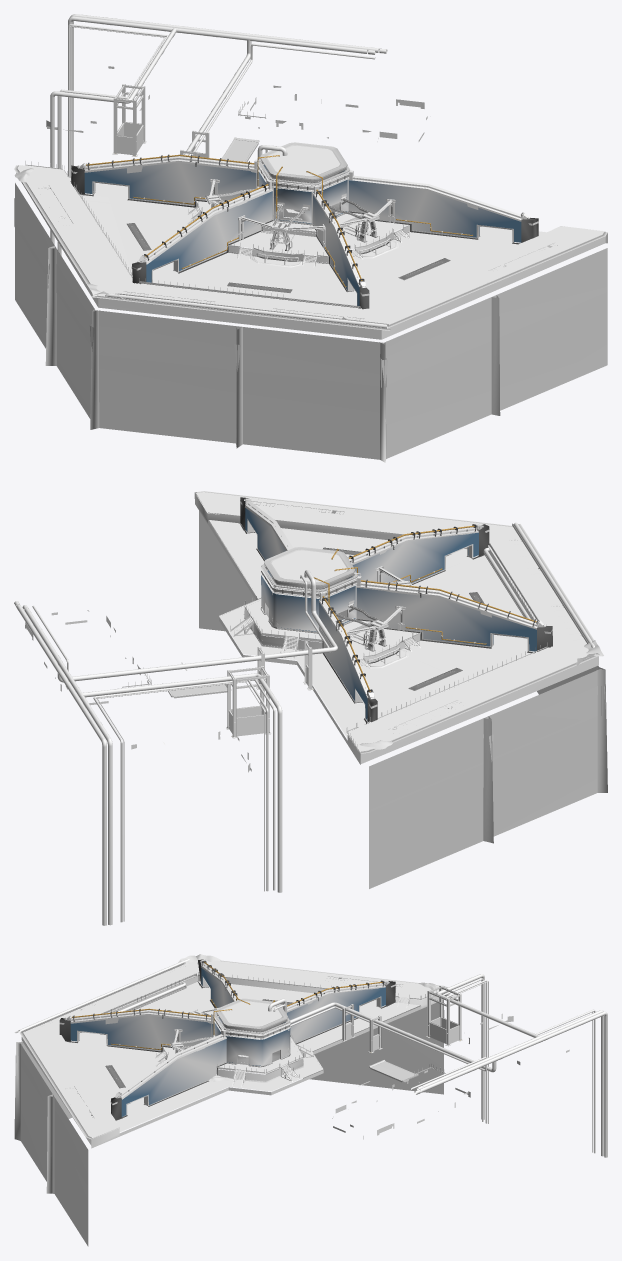
The model's file is cell_85_53.fbx.
3 renders of one model, top to bottom at view 1: azimuth 30°, elevation 25°; view 2: azimuth 150°, elevation 25°; view 3: azimuth 270°, elevation 25°, orthographic. The views are drawn at different scales.
Parts seen in each view (by area): view 1: SM_H_Building_FutureTech_Test_01_ExterWall_01.mo, SM_I_RoadFacility_Ground_R_02Ed.mo, SM_I_RoadFacility_Ground_R_02Ed_Decal.mo, SM_H_Building_FutureTech_Test_01_ExterWall_07.mo, SM_I_RoadFacility_Pipe_T_03A.mo, SM_H_Building_FutureTech_Test_01_ExterWall_01_Decal.mo, SM_I_RoadFacility_Pipe_T_06A.mo, SM_I_RoadFacility_Pipe_T_05.mo, SM_H_WalkwaySystem_MetalSupport_01.mo.001, SM_H_Building_FutureTech_Test_01_ExterWall_02.mo.001, SM_H_Building_FutureTech_Test_01_ExterWall_02.mo.002, SM_I_RoadFacility_Pipe_T_03A_Decal.mo (+4 smaller); view 2: SM_H_Building_FutureTech_Test_01_ExterWall_01.mo, SM_I_RoadFacility_Ground_R_02Ed.mo, SM_I_RoadFacility_Pipe_T_03A.mo, SM_I_RoadFacility_Ground_R_02Ed_Decal.mo, SM_H_Building_FutureTech_Test_01_ExterWall_07.mo, SM_I_RoadFacility_Pipe_T_06A.mo, SM_H_Building_FutureTech_Test_01_ExterWall_01_Decal.mo, SM_H_WalkwaySystem_MetalSupport_01.mo.001, SM_I_RoadFacility_Pipe_T_05.mo, SM_H_Building_FutureTech_Test_01_ExterWall_02.mo, SM_I_RoadFacility_Pipe_T_03A_Decal.mo, SM_H_Building_FutureTech_Test_01_ExterWall_03.mo; view 3: SM_H_Building_FutureTech_Test_01_ExterWall_01.mo, SM_I_RoadFacility_Ground_R_02Ed.mo, SM_I_RoadFacility_Pipe_T_03A.mo, SM_H_Building_FutureTech_Test_01_ExterWall_07.mo, SM_I_RoadFacility_Pipe_T_06A.mo, SM_H_Building_FutureTech_Test_01_ExterWall_01_Decal.mo, SM_I_RoadFacility_Ground_R_02Ed_Decal.mo, SM_I_RoadFacility_Pipe_T_05.mo, SM_H_WalkwaySystem_MetalSupport_01.mo.001, SM_I_RoadFacility_Pipe_T_03A_Decal.mo, SM_RoadFacility_Road_AsphaltRoad_512_01.mo.025, SM_I_RoadFacility_Ground_T_05_Decal.mo.
Boxes of the visible parts, bbox=[...] form: SM_H_Building_FutureTech_Test_01_ExterWall_01.mo: bbox=[14, 156, 607, 339]; SM_I_RoadFacility_Ground_R_02Ed.mo: bbox=[15, 183, 607, 462]; SM_I_RoadFacility_Ground_R_02Ed_Decal.mo: bbox=[14, 198, 607, 387]; SM_H_Building_FutureTech_Test_01_ExterWall_07.mo: bbox=[257, 142, 350, 225]; SM_I_RoadFacility_Pipe_T_03A.mo: bbox=[50, 14, 379, 244]; SM_H_Building_FutureTech_Test_01_ExterWall_01_Decal.mo: bbox=[80, 160, 521, 305]; SM_I_RoadFacility_Pipe_T_06A.mo: bbox=[57, 24, 375, 255]; SM_I_RoadFacility_Pipe_T_05.mo: bbox=[105, 281, 388, 328]; SM_H_WalkwaySystem_MetalSupport_01.mo.001: bbox=[112, 84, 146, 156]; SM_H_Building_FutureTech_Test_01_ExterWall_02.mo.001: bbox=[238, 203, 325, 264]; SM_H_Building_FutureTech_Test_01_ExterWall_02.mo.002: bbox=[329, 196, 395, 254]; SM_I_RoadFacility_Pipe_T_03A_Decal.mo: bbox=[60, 14, 387, 151]; SM_H_Building_FutureTech_Test_01_ExterWall_01.mo: bbox=[194, 491, 603, 764]; SM_I_RoadFacility_Ground_R_02Ed.mo: bbox=[199, 511, 607, 888]; SM_I_RoadFacility_Pipe_T_03A.mo: bbox=[16, 570, 337, 925]; SM_I_RoadFacility_Ground_R_02Ed_Decal.mo: bbox=[369, 684, 605, 812]; SM_H_Building_FutureTech_Test_01_ExterWall_07.mo: bbox=[260, 547, 358, 633]; SM_I_RoadFacility_Pipe_T_06A.mo: bbox=[32, 575, 329, 922]; SM_H_Building_FutureTech_Test_01_ExterWall_01_Decal.mo: bbox=[239, 505, 536, 723]; SM_H_WalkwaySystem_MetalSupport_01.mo.001: bbox=[226, 666, 270, 738]; SM_I_RoadFacility_Pipe_T_05.mo: bbox=[483, 522, 594, 647]; SM_H_Building_FutureTech_Test_01_ExterWall_02.mo: bbox=[335, 603, 405, 664]; SM_I_RoadFacility_Pipe_T_03A_Decal.mo: bbox=[14, 570, 336, 739]; SM_H_Building_FutureTech_Test_01_ExterWall_03.mo: bbox=[314, 577, 486, 690]; SM_H_Building_FutureTech_Test_01_ExterWall_01.mo: bbox=[14, 959, 449, 1148]; SM_I_RoadFacility_Ground_R_02Ed.mo: bbox=[14, 974, 443, 1246]; SM_I_RoadFacility_Pipe_T_03A.mo: bbox=[268, 974, 607, 1157]; SM_H_Building_FutureTech_Test_01_ExterWall_07.mo: bbox=[213, 998, 290, 1067]; SM_I_RoadFacility_Pipe_T_06A.mo: bbox=[273, 978, 595, 1153]; SM_H_Building_FutureTech_Test_01_ExterWall_01_Decal.mo: bbox=[65, 965, 395, 1120]; SM_I_RoadFacility_Ground_R_02Ed_Decal.mo: bbox=[15, 1010, 444, 1185]; SM_I_RoadFacility_Pipe_T_05.mo: bbox=[18, 959, 196, 1032]; SM_H_WalkwaySystem_MetalSupport_01.mo.001: bbox=[426, 985, 462, 1046]; SM_I_RoadFacility_Pipe_T_03A_Decal.mo: bbox=[274, 975, 604, 1094]; SM_RoadFacility_Road_AsphaltRoad_512_01.mo.025: bbox=[369, 1060, 418, 1082]; SM_I_RoadFacility_Ground_T_05_Decal.mo: bbox=[332, 1013, 569, 1139].
Bounding box in the file's own units: 104 × 41.28 × 142.
